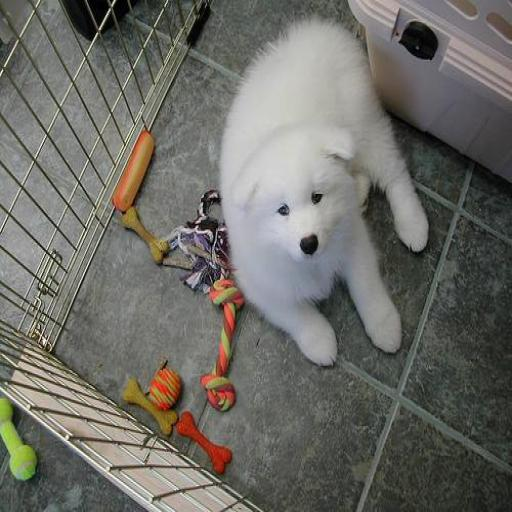dog_face: (234, 123, 356, 269)
